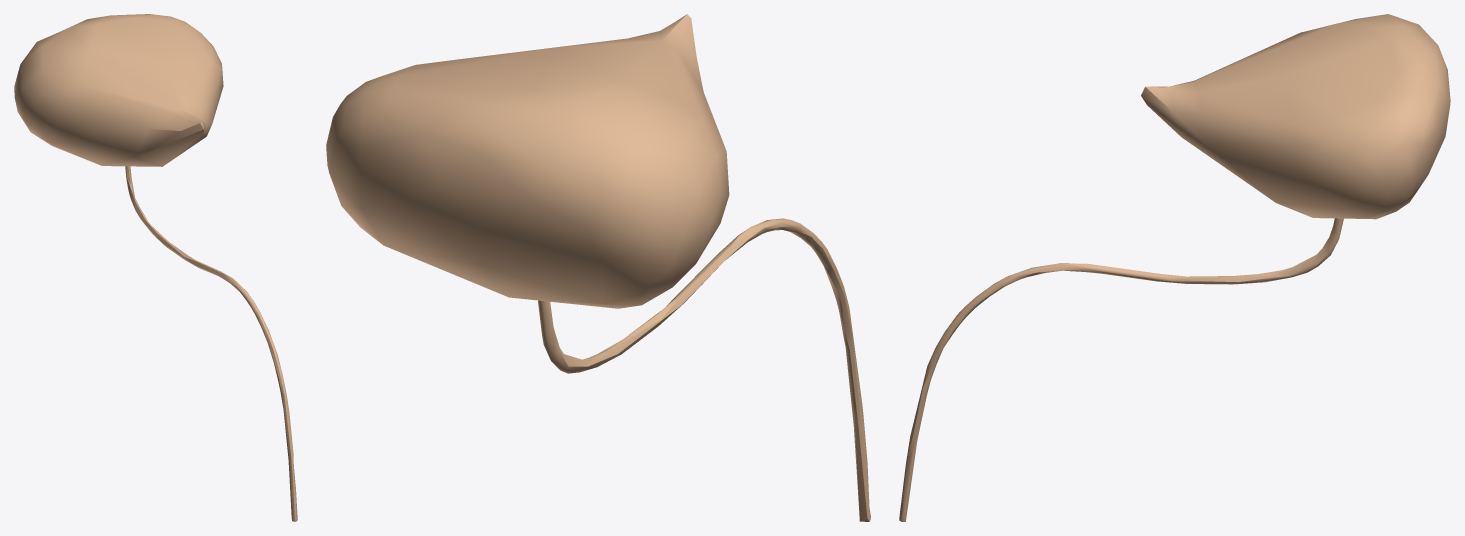
The model's file is urinaire-bassin.hi.glb.
3 renders of one model, left to right at view 1: azimuth 30°, elevation 25°; view 2: azimuth 150°, elevation 25°; view 3: azimuth 270°, elevation 25°, orthographic. The views are drawn at different scales.
Visible parts, largest first — view 1: FJ3149, FJ3148; view 2: FJ3149, FJ3148; view 3: FJ3149, FJ3148.
Part boxes in pixels (x1=…): FJ3149: x1=14, y1=14, x2=223, y2=166; FJ3148: x1=125, y1=166, x2=297, y2=521; FJ3149: x1=326, y1=14, x2=729, y2=308; FJ3148: x1=538, y1=218, x2=870, y2=521; FJ3149: x1=1141, y1=14, x2=1450, y2=219; FJ3148: x1=899, y1=218, x2=1343, y2=521.
Bounding box in the file's own units: 0.0668 × 0.1214 × 0.1276.
